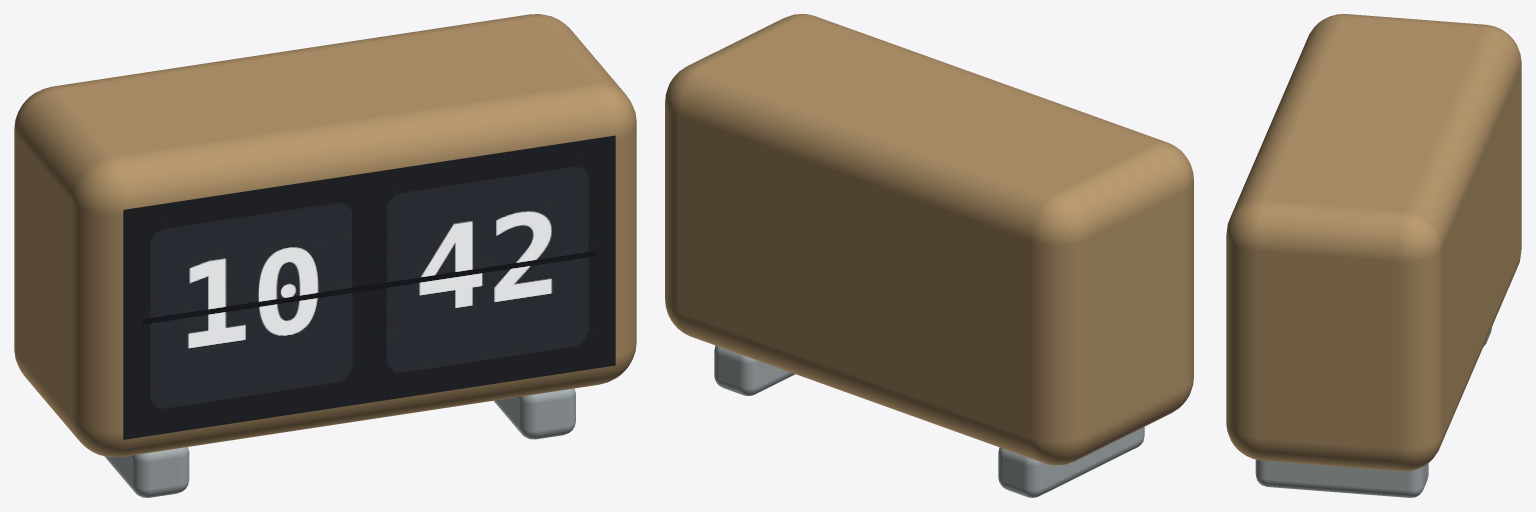
Rendered from atelier-decor-clock-nordic.glb.
3 renders of one model, left to right at view 1: azimuth 30°, elevation 25°; view 2: azimuth 150°, elevation 25°; view 3: azimuth 270°, elevation 25°, orthographic. The views are drawn at different scales.
Bounding box in the file's own units: 0.1656 × 0.102 × 0.0928.
3 materials, 1 textured.
